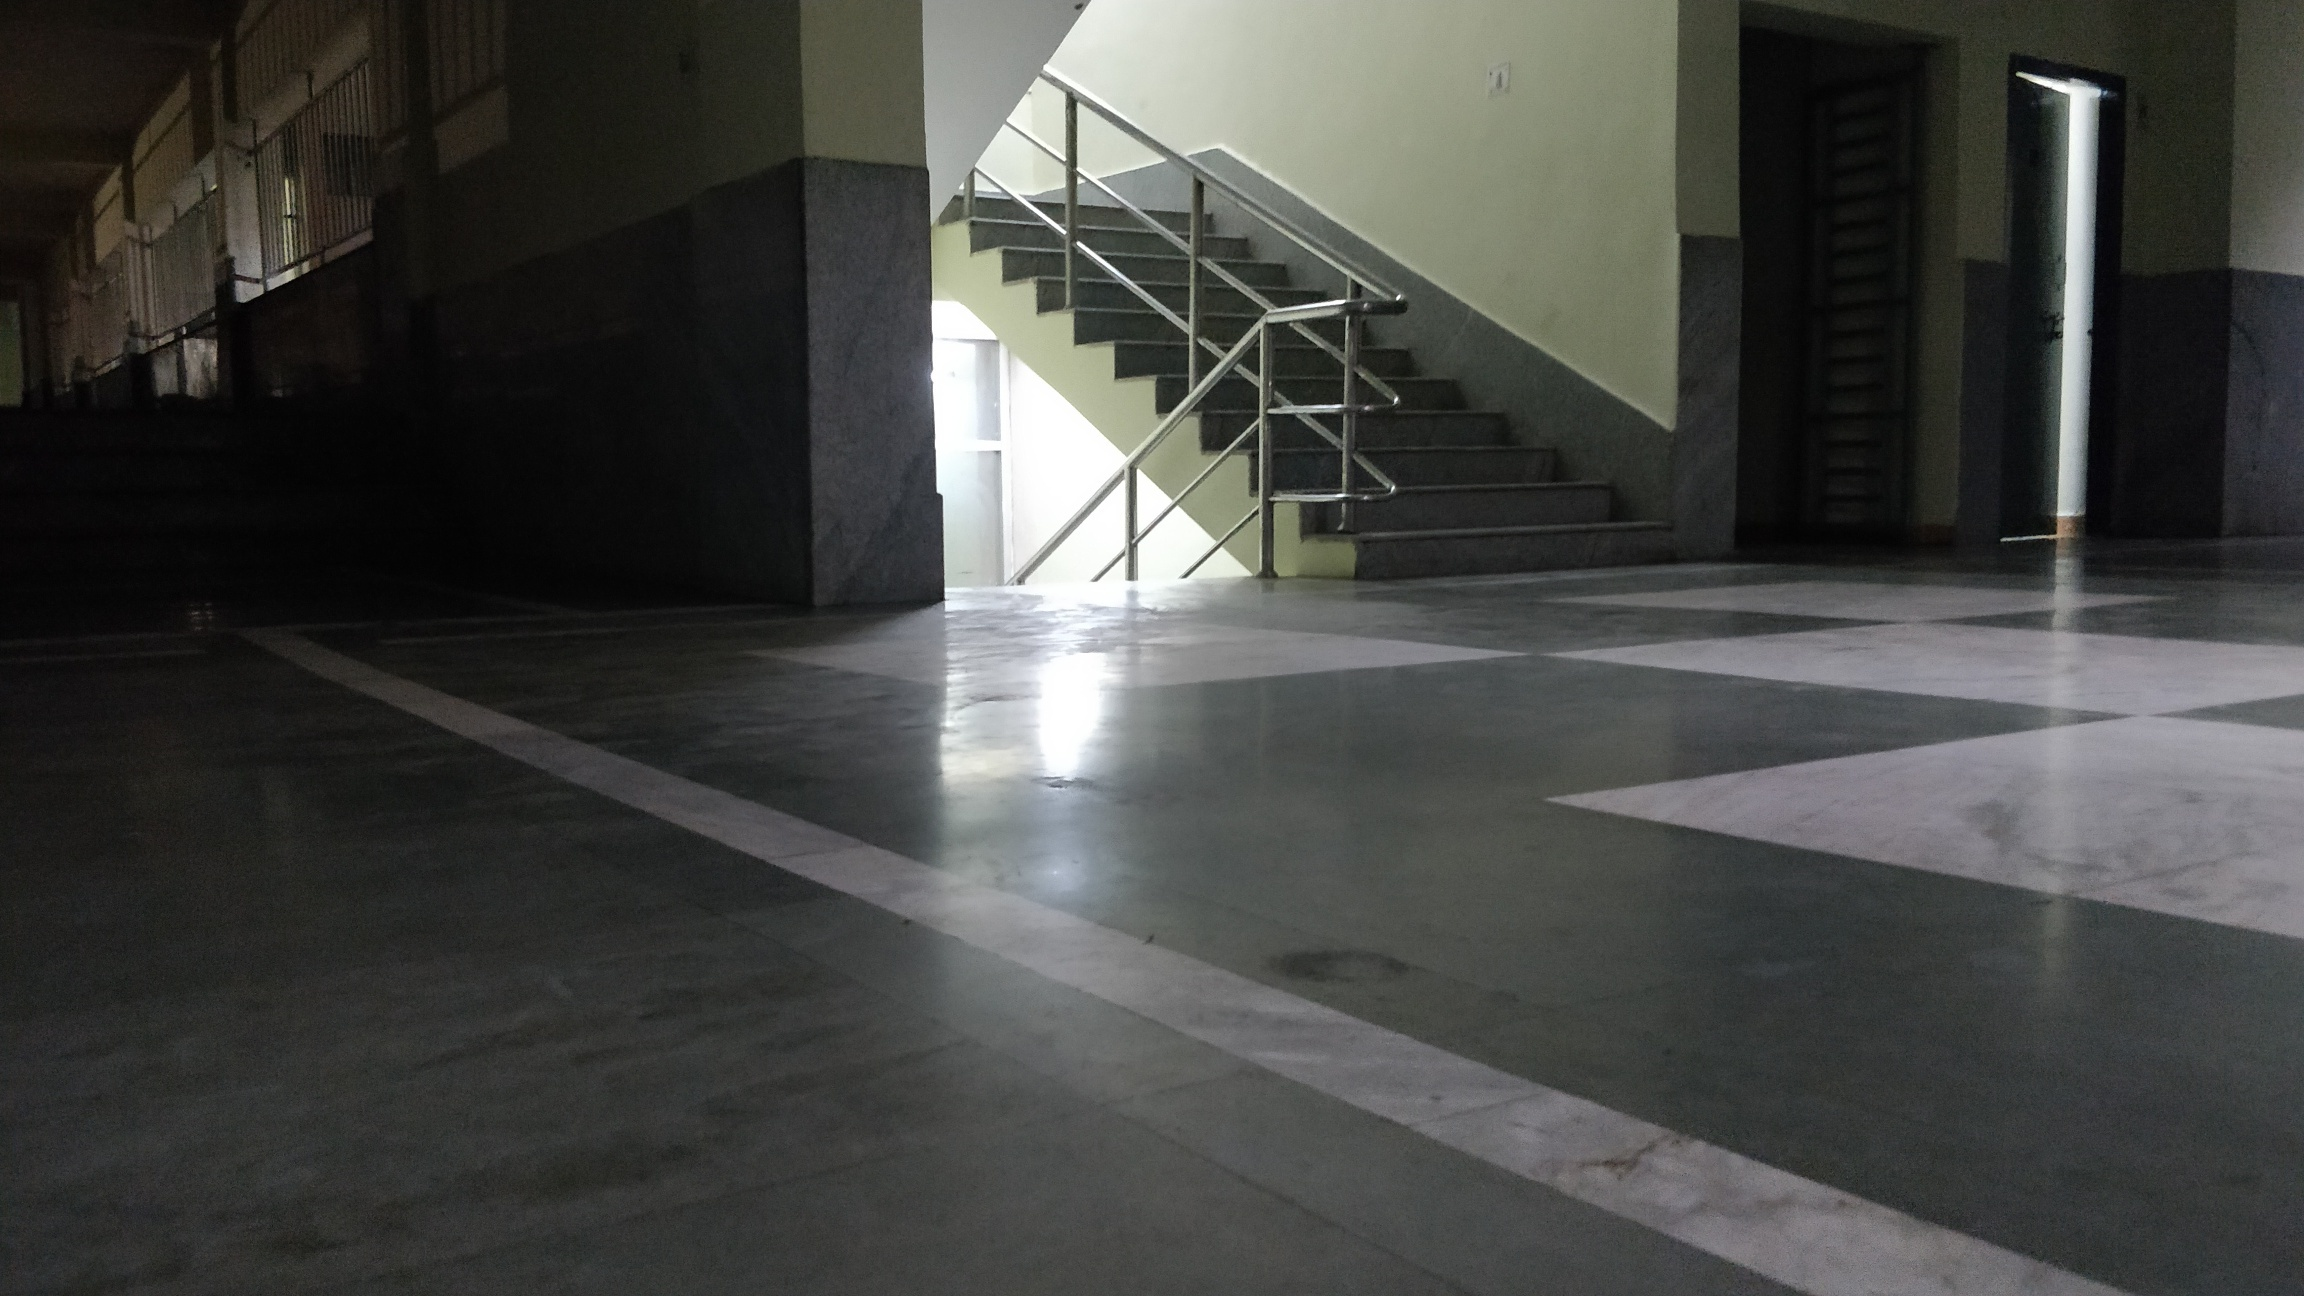stairs_up: (965, 188, 1666, 548)
